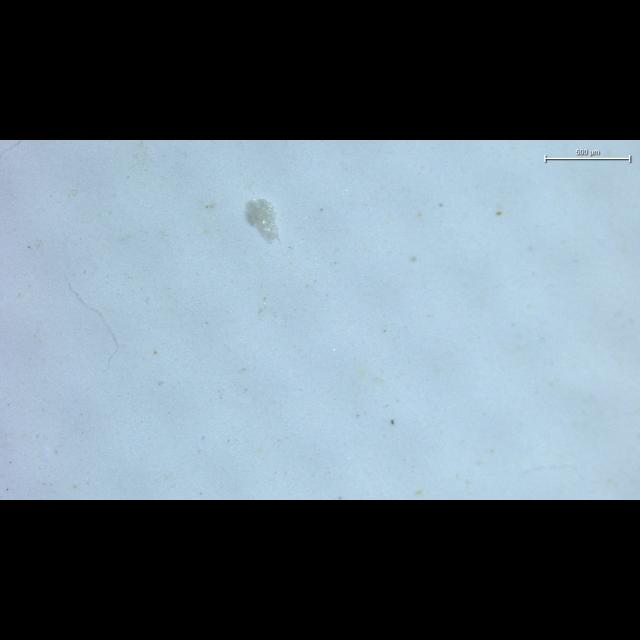Fibre: (65, 275, 120, 371)
Fragment: (245, 198, 279, 243)
